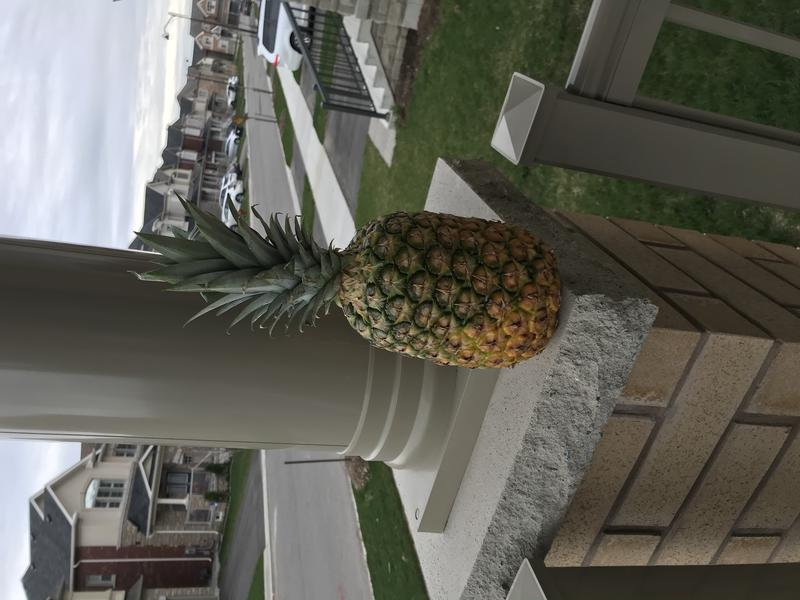pineapple: (120, 190, 567, 375)
